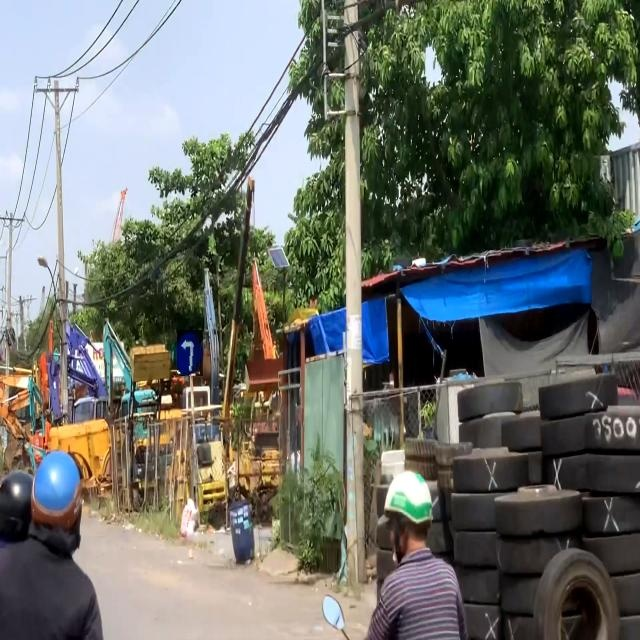bien_hieu_lenh: (177, 330, 203, 376)
